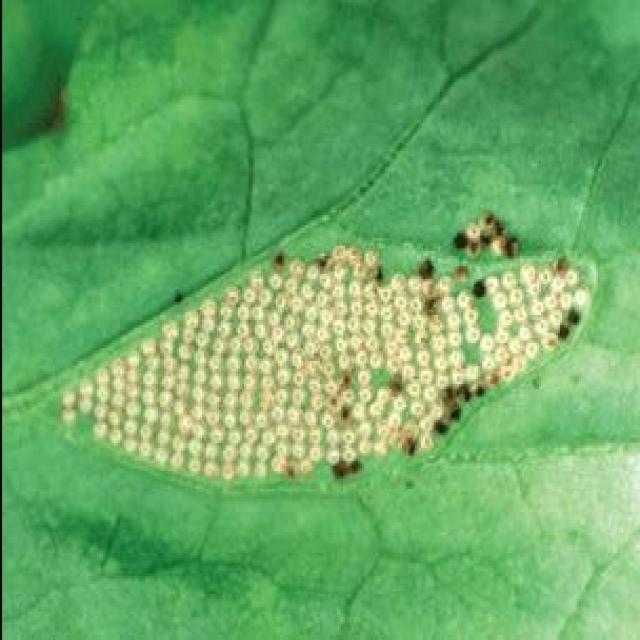army worm: (50, 212, 593, 522)
